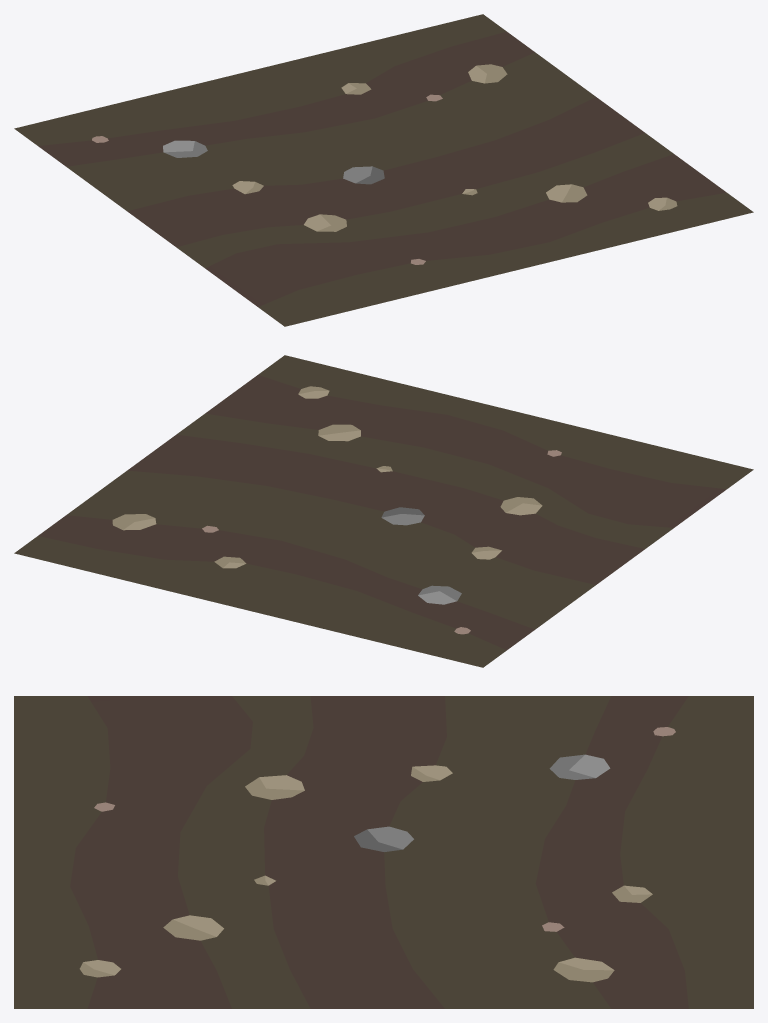
Rendered from BG_ground_Mud2_mesh.fbx.
3 renders of one model, top to bottom at view 1: azimuth 30°, elevation 25°; view 2: azimuth 150°, elevation 25°; view 3: azimuth 270°, elevation 25°, orthographic. The views are drawn at different scales.
Visible parts, largest first — view 1: BG_ground_Mud2_mesh; view 2: BG_ground_Mud2_mesh; view 3: BG_ground_Mud2_mesh.
Boxes of the visible parts, x1,y1,x2,y2 form: BG_ground_Mud2_mesh: [14, 14, 753, 326]; BG_ground_Mud2_mesh: [14, 355, 753, 667]; BG_ground_Mud2_mesh: [14, 696, 753, 1008].
Bounding box in the file's own units: 100 × 6.12e-15 × 100.
Materials: 1 (1 with a texture image).
